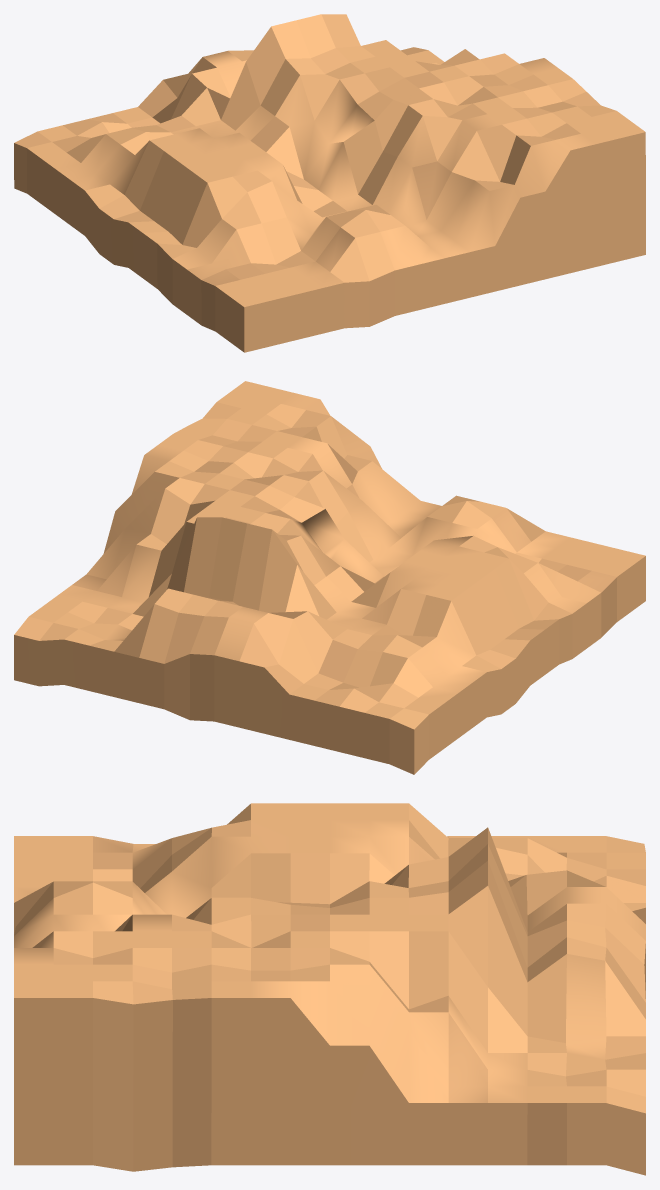
3 renders of one model, top to bottom at view 1: azimuth 30°, elevation 25°; view 2: azimuth 150°, elevation 25°; view 3: azimuth 270°, elevation 25°, orthographic. The views are drawn at different scales.
Parts seen in each view (by area): view 1: Fondale; view 2: Fondale; view 3: Fondale.
Boxes of the visible parts, left/top/right/bottom form: Fondale: left=14, top=14, right=645, bottom=352; Fondale: left=14, top=381, right=645, bottom=774; Fondale: left=14, top=803, right=645, bottom=1175.
Size of the model in its own units: 8823 by 3418 by 8821.
1 material, 1 textured.
